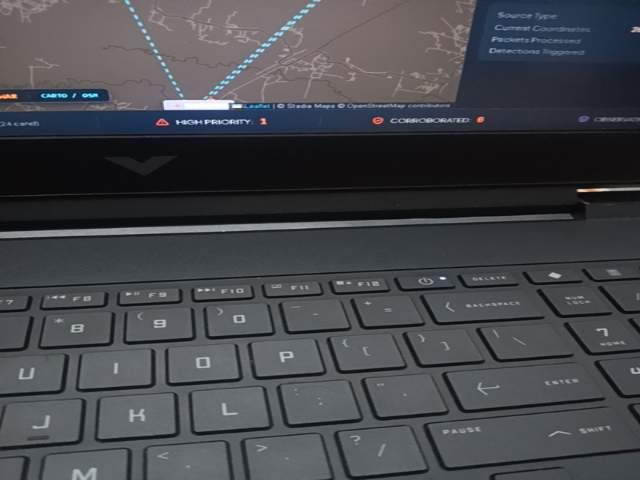pothole: (105, 210, 314, 373), (104, 403, 313, 480), (536, 403, 640, 480)
